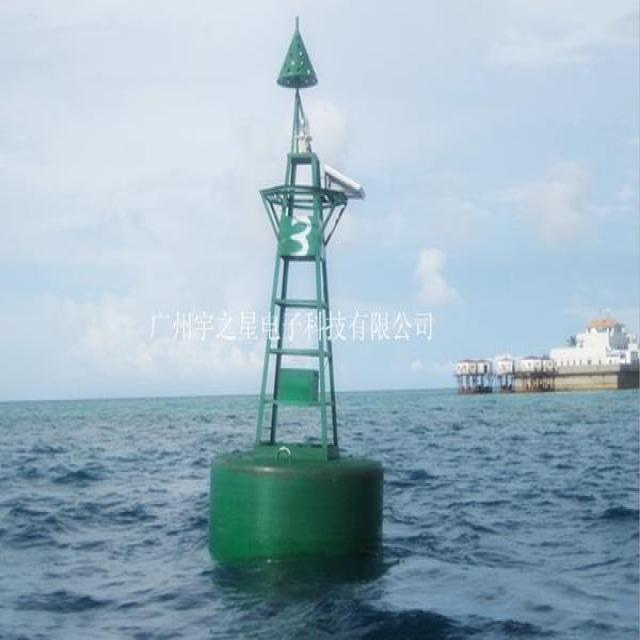buoy: (198, 1, 394, 567)
